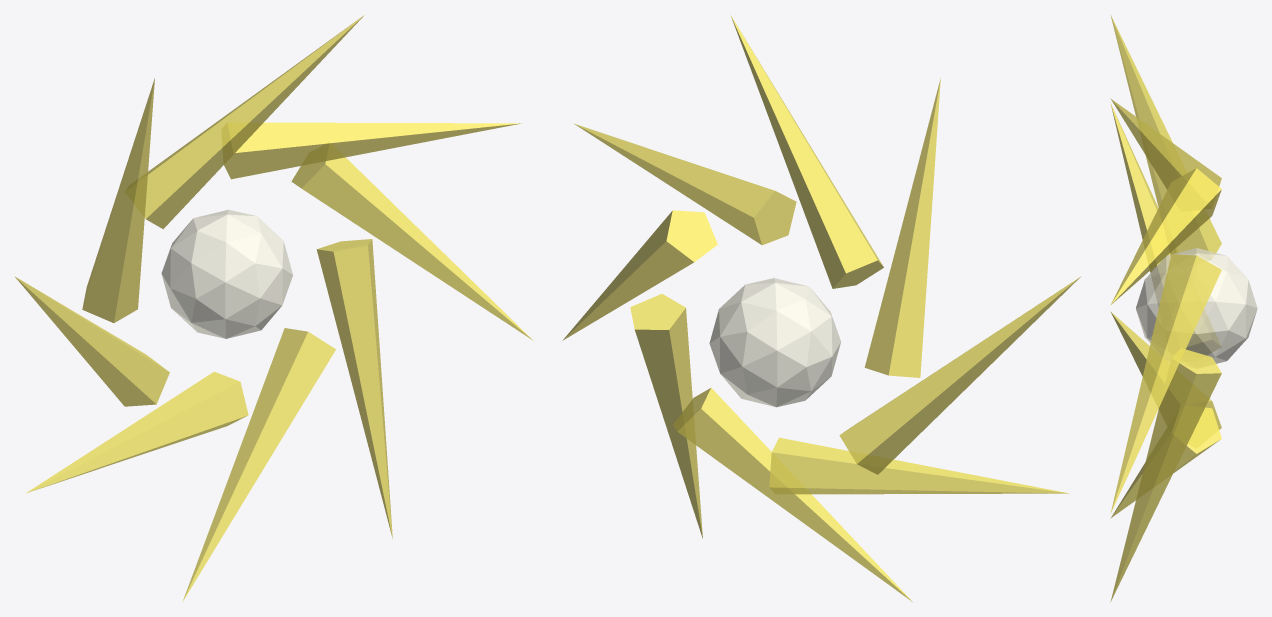
Rendered from vfx_impact_burst_small.glb.
3 views of the same model, side by side, from view 1: azimuth 30°, elevation 25°; view 2: azimuth 150°, elevation 25°; view 3: azimuth 270°, elevation 25° (orthographic). The views are drawn at different scales.
Visible parts, largest first — view 1: core, spark_ray_0, spark_ray_7, spark_ray_3, spark_ray_2, spark_ray_1, spark_ray_4, spark_ray_6, spark_ray_5; view 2: core, spark_ray_4, spark_ray_3, spark_ray_6, spark_ray_5, spark_ray_7, spark_ray_2, spark_ray_0, spark_ray_1; view 3: spark_ray_1, spark_ray_0, core, spark_ray_2, spark_ray_4, spark_ray_5, spark_ray_3, spark_ray_7, spark_ray_6.
Part boxes in pixels (x1,y1,x2,y2): core: [161, 209, 292, 338]; spark_ray_0: [316, 239, 392, 539]; spark_ray_7: [182, 328, 335, 601]; spark_ray_3: [144, 15, 364, 229]; spark_ray_2: [224, 122, 521, 179]; spark_ray_1: [291, 157, 533, 340]; spark_ray_4: [82, 78, 154, 322]; spark_ray_6: [26, 371, 248, 493]; spark_ray_5: [14, 276, 169, 406]; core: [709, 278, 840, 407]; spark_ray_4: [864, 77, 940, 377]; spark_ray_3: [730, 15, 883, 288]; spark_ray_6: [769, 437, 1069, 494]; spark_ray_5: [839, 276, 1081, 474]; spark_ray_7: [673, 387, 912, 601]; spark_ray_2: [574, 123, 796, 245]; spark_ray_0: [630, 294, 702, 538]; spark_ray_1: [562, 210, 717, 340]; spark_ray_1: [1110, 254, 1221, 513]; spark_ray_0: [1110, 349, 1221, 601]; core: [1136, 248, 1257, 363]; spark_ray_2: [1110, 168, 1221, 305]; spark_ray_4: [1110, 15, 1221, 260]; spark_ray_5: [1110, 103, 1220, 354]; spark_ray_3: [1110, 98, 1221, 189]; spark_ray_7: [1110, 407, 1221, 518]; spark_ray_6: [1110, 311, 1221, 429].
Bounding box in the file's own units: 1.09 × 1.09 × 0.29.
